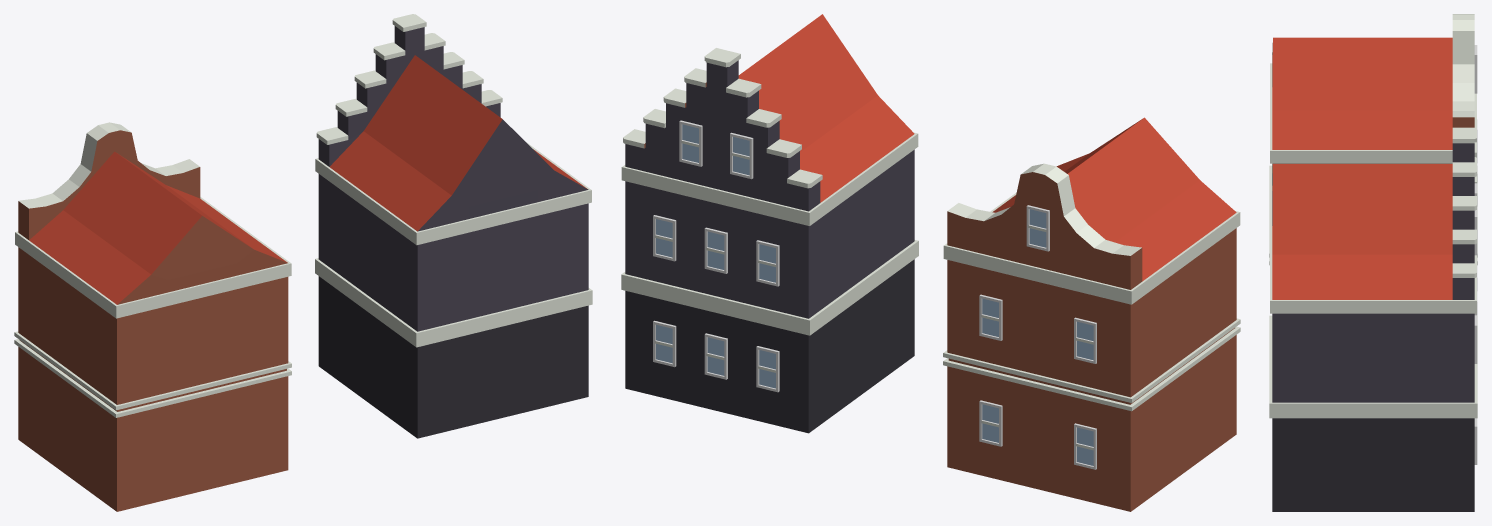
The model's file is canal_houses1.fbx.
The picture shows the model from 3 angles, left to right: view 1: azimuth 30°, elevation 25°; view 2: azimuth 150°, elevation 25°; view 3: azimuth 270°, elevation 25°; orthographic projection. The views are drawn at different scales.
Parts seen in each view (by area): view 1: Cube.002, Cube; view 2: Cube.002, Cube; view 3: Cube.002, Cube.
Part boxes in pixels (box(x1,y1,x2,y2)): Cube.002: box(315, 14, 592, 438); Cube: box(14, 122, 291, 511); Cube.002: box(621, 14, 918, 433); Cube: box(943, 117, 1240, 511); Cube.002: box(1269, 127, 1477, 511); Cube: box(1269, 14, 1477, 266).
Bounding box in the file's own units: 4649 × 3060 × 1718.
